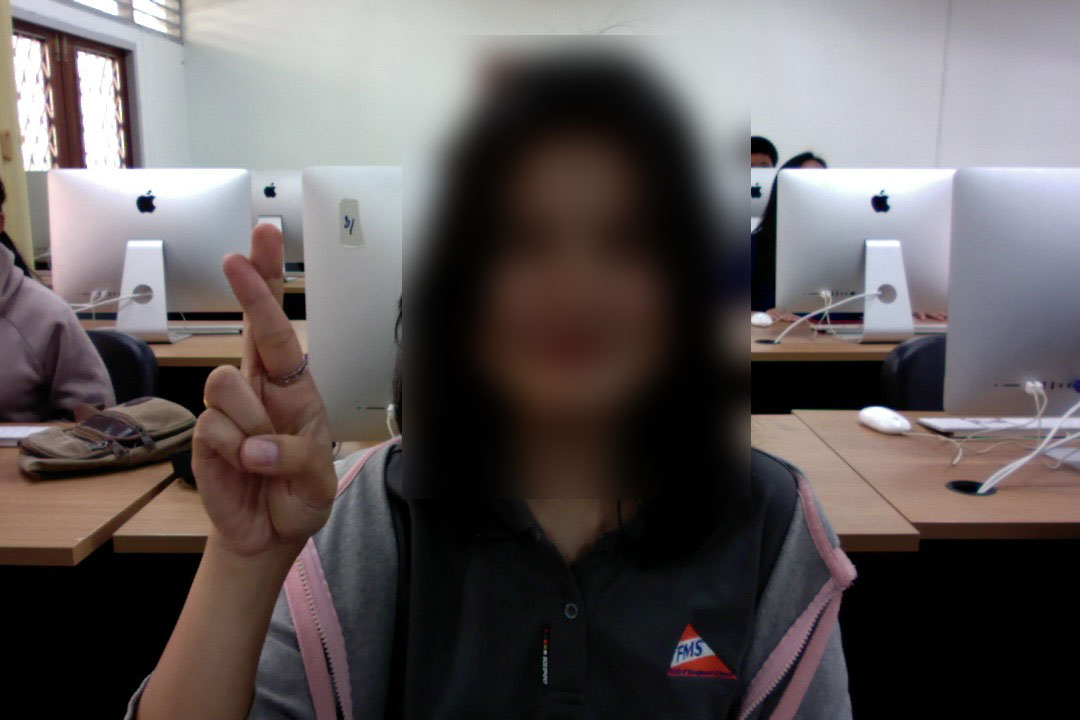rao: (194, 221, 340, 554)
